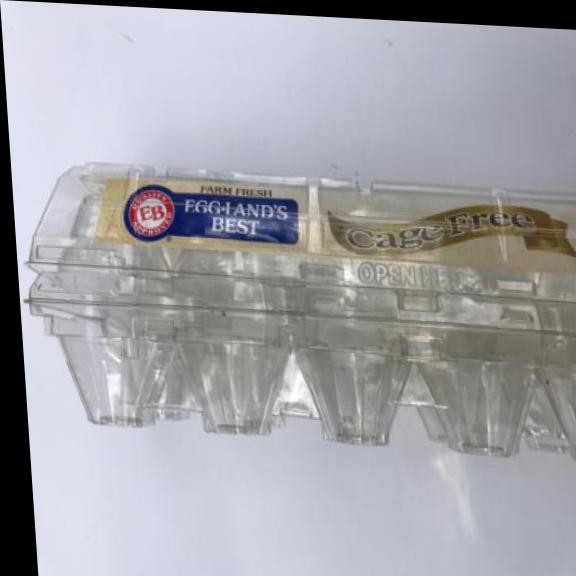Plastik: (10, 152, 576, 469)
